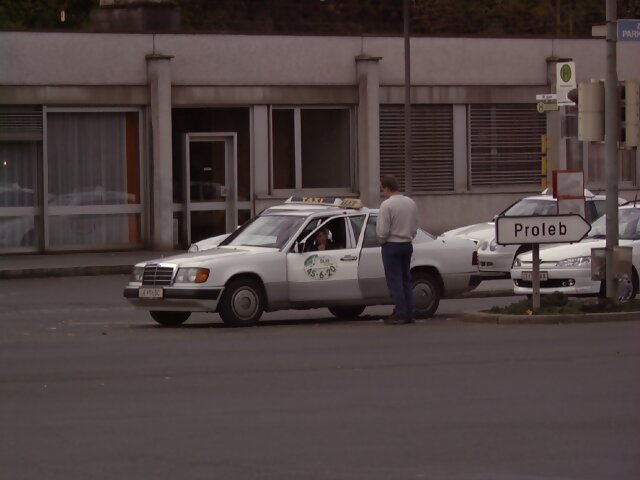person: (368, 171, 436, 331)
